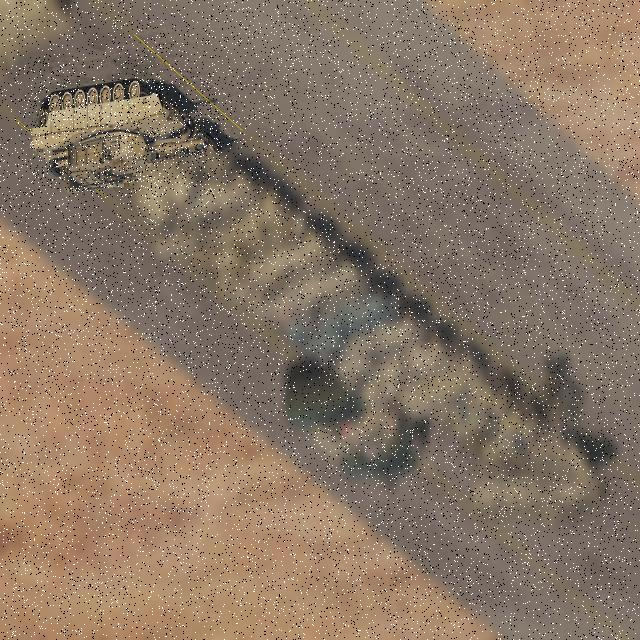MIL_MBT: (30, 79, 222, 196)
